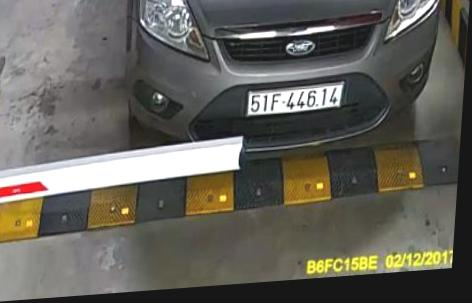License_Plate: (245, 75, 348, 123)
